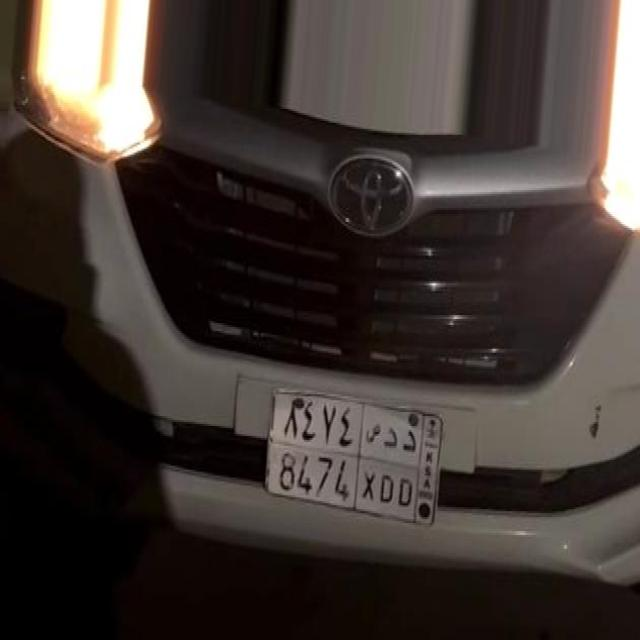Car-plate: (252, 370, 454, 548)
